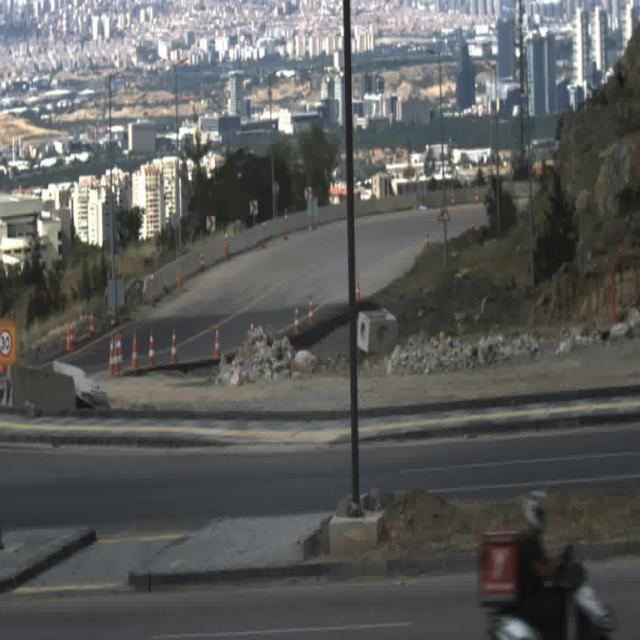Motorcycle: (478, 493, 612, 640)
